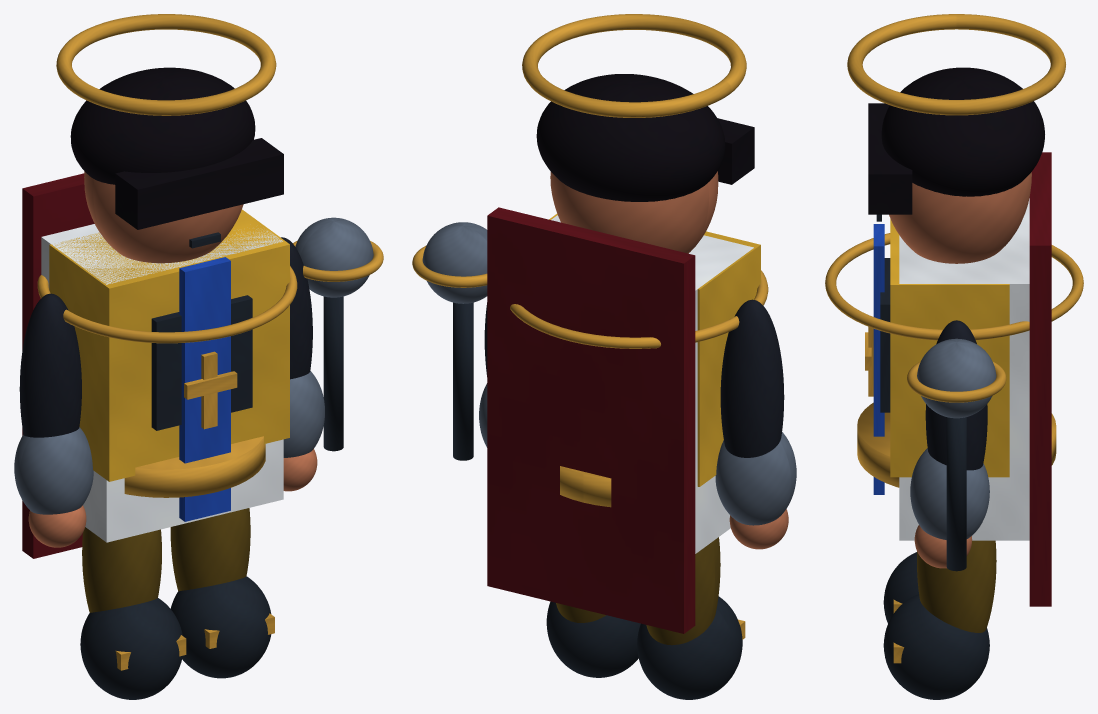
File: Foundation.glb
The picture shows the model from 3 angles, left to right: view 1: azimuth 30°, elevation 25°; view 2: azimuth 150°, elevation 25°; view 3: azimuth 270°, elevation 25°; orthographic projection. The views are drawn at different scales.
Parts seen in each view (by area): view 1: ChestPlate, Hair, WhiteRobe, BlueStole, HairFringe, Boot, DivineHalo, Boot.001, Arm, Cape, Head, Gauntlet (+14 smaller); view 2: Cape, Hair, Arm, DivineHalo, Head, ChestPlate, Boot, Gauntlet, Boot.001, WhiteRobe, MaceHead, MaceHandle (+6 smaller); view 3: Hair, ChestPlate, WhiteRobe, Cape, Head, DivineHalo, Boot.001, Leg.001, MaceHead, ShoulderCrest, Gauntlet.001, HairFringe (+8 smaller).
Part boxes in pixels (left/top/right/bottom): ChestPlate: left=49, top=209, right=289, bottom=481; Hair: left=70, top=67, right=255, bottom=184; WhiteRobe: left=41, top=224, right=283, bottom=542; BlueStole: left=179, top=257, right=230, bottom=521; HairFringe: left=115, top=138, right=283, bottom=229; Boot: left=80, top=598, right=182, bottom=699; DivineHalo: left=56, top=14, right=276, bottom=115; Boot.001: left=170, top=576, right=271, bottom=678; Arm: left=19, top=293, right=81, bottom=437; Cape: left=22, top=173, right=94, bottom=558; Head: left=84, top=171, right=243, bottom=263; Gauntlet: left=14, top=427, right=93, bottom=514; Cape: left=487, top=207, right=695, bottom=633; Hair: left=536, top=74, right=725, bottom=201; Arm: left=720, top=299, right=784, bottom=457; DivineHalo: left=522, top=14, right=746, bottom=117; Head: left=550, top=171, right=718, bottom=253; ChestPlate: left=549, top=214, right=760, bottom=486; Boot: left=637, top=596, right=742, bottom=699; Gauntlet: left=715, top=432, right=796, bottom=525; Boot.001: left=546, top=601, right=640, bottom=677; WhiteRobe: left=551, top=215, right=753, bottom=553; MaceHead: left=422, top=222, right=487, bottom=303; MaceHandle: left=453, top=302, right=473, bottom=460; Hair: left=881, top=67, right=1044, bottom=196; ChestPlate: left=890, top=219, right=1009, bottom=477; WhiteRobe: left=899, top=198, right=1029, bottom=540; Cape: left=1029, top=152, right=1051, bottom=606; Head: left=889, top=172, right=1031, bottom=263; DivineHalo: left=847, top=14, right=1065, bottom=115; Boot.001: left=883, top=594, right=989, bottom=699; Leg.001: left=917, top=540, right=996, bottom=632; MaceHead: left=917, top=338, right=996, bottom=418; ShoulderCrest: left=825, top=233, right=1083, bottom=340; Gauntlet.001: left=910, top=448, right=989, bottom=539; HairFringe: left=868, top=103, right=912, bottom=214.
Size of the model in its own units: 1.88 by 3.08 by 1.17.
Materials: 13 (11 with a texture image).
